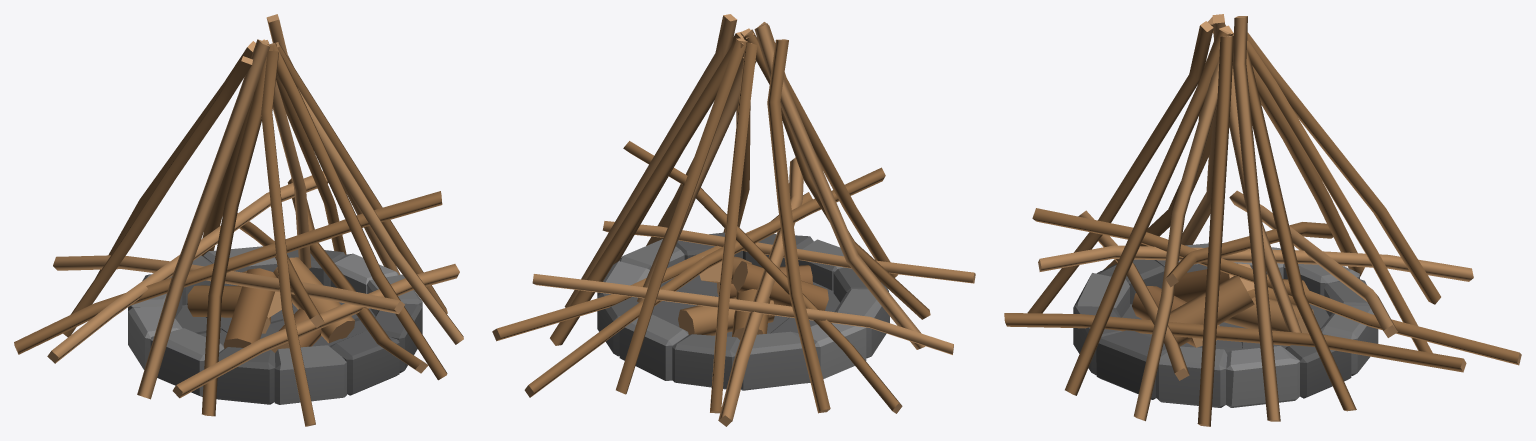
File: Fire_D.fbx
The picture shows the model from 3 angles, left to right: view 1: azimuth 30°, elevation 25°; view 2: azimuth 150°, elevation 25°; view 3: azimuth 270°, elevation 25°; orthographic projection. The views are drawn at different scales.
Visible parts, largest first — view 1: Fire_D; view 2: Fire_D; view 3: Fire_D.
Boxes of the visible parts, x1,y1,x2,y2 form: Fire_D: (14, 14, 463, 426); Fire_D: (492, 14, 975, 426); Fire_D: (1004, 14, 1521, 426).
Size of the model in its own units: 234 by 191 by 265.
